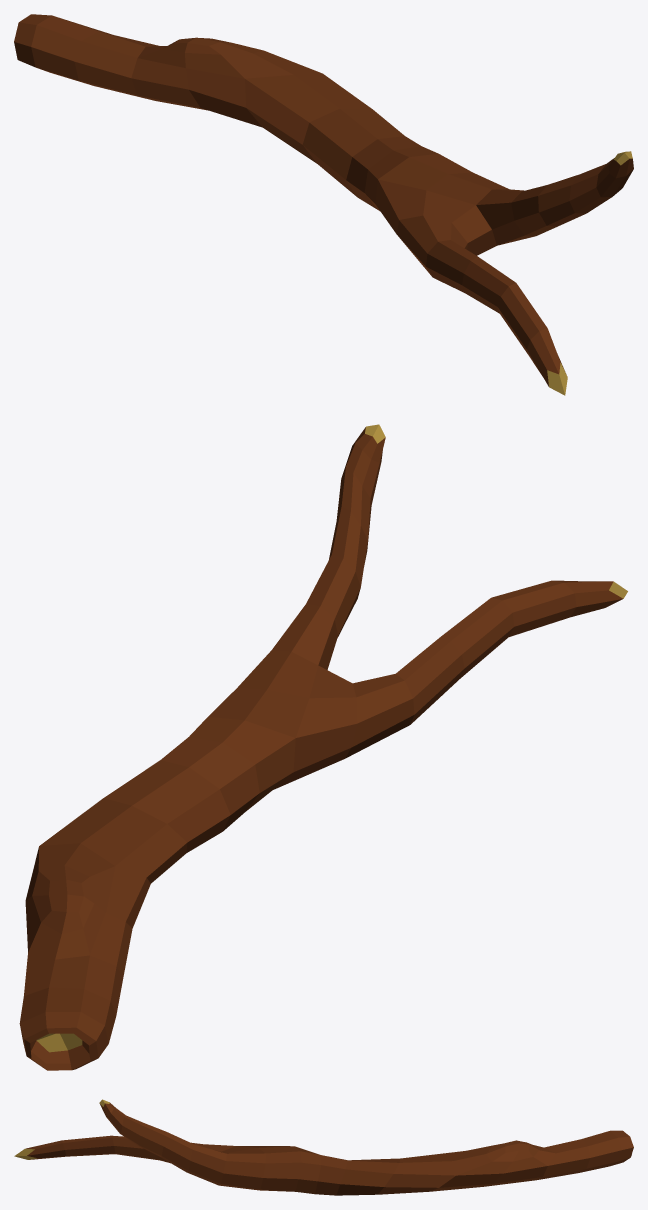
Rendered from result.gltf.
3 renders of one model, top to bottom at view 1: azimuth 30°, elevation 25°; view 2: azimuth 150°, elevation 25°; view 3: azimuth 270°, elevation 25°, orthographic. The views are drawn at different scales.
Parts seen in each view (by area): view 1: Log_2; view 2: Log_2; view 3: Log_2.
Boxes of the visible parts, x1,y1,x2,y2 form: Log_2: [14, 14, 633, 395]; Log_2: [19, 424, 627, 1070]; Log_2: [14, 1099, 633, 1195].
Size of the model in its own units: 89.1 by 75.51 by 384.
